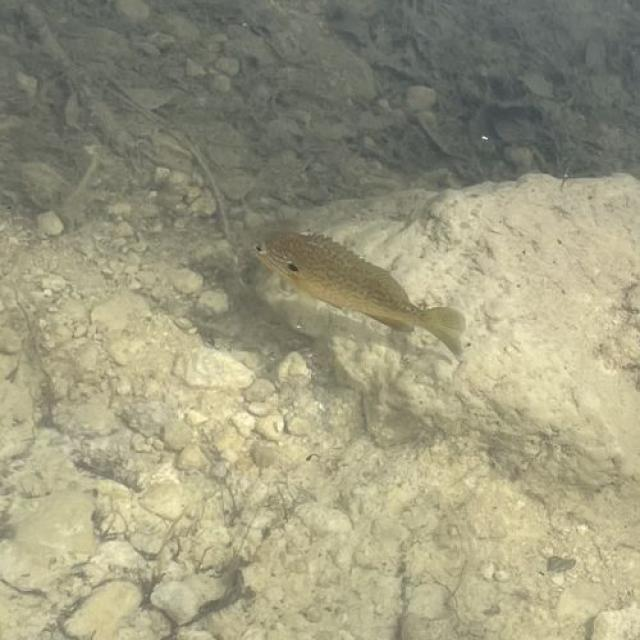Gunes Levregi: (249, 228, 474, 374)
